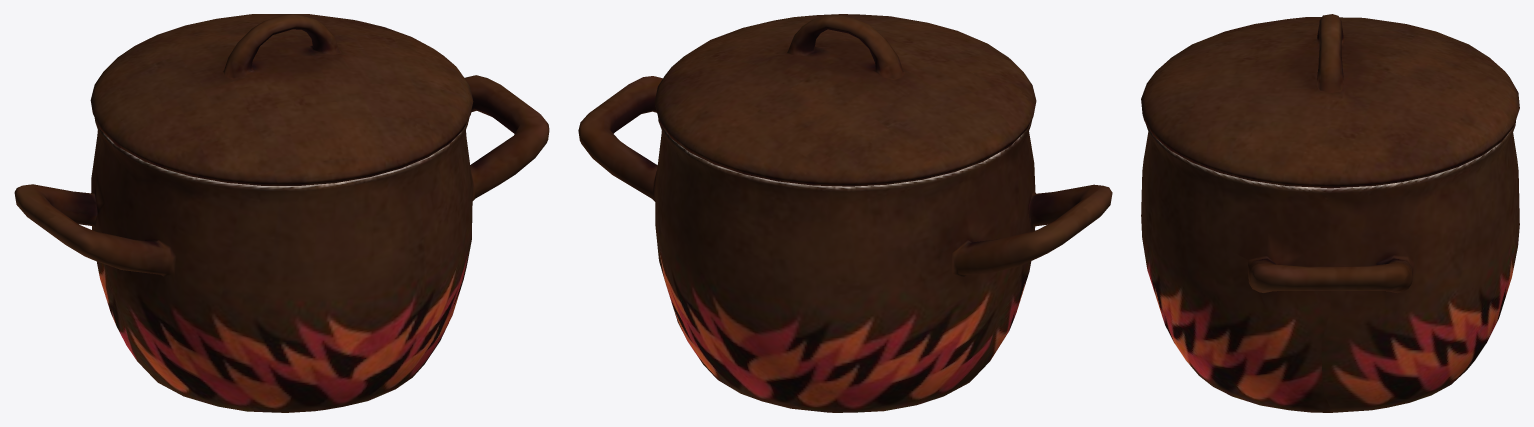
The model's file is pot_enamel_01.glb.
3 renders of one model, left to right at view 1: azimuth 30°, elevation 25°; view 2: azimuth 150°, elevation 25°; view 3: azimuth 270°, elevation 25°, orthographic.
Parts seen in each view (by area): view 1: pot_enamel_01_base, pot_enamel_01_lid; view 2: pot_enamel_01_base, pot_enamel_01_lid; view 3: pot_enamel_01_base, pot_enamel_01_lid.
Boxes of the visible parts, left/top/right/bottom form: pot_enamel_01_base: left=14, top=75, right=549, bottom=412; pot_enamel_01_lid: left=90, top=14, right=473, bottom=185; pot_enamel_01_base: left=578, top=76, right=1112, bottom=412; pot_enamel_01_lid: left=654, top=14, right=1036, bottom=186; pot_enamel_01_base: left=1141, top=121, right=1519, bottom=412; pot_enamel_01_lid: left=1141, top=14, right=1519, bottom=188.
Bounding box in the file's own units: 0.2626 × 0.1782 × 0.1804.
Materials: 1 (1 with a texture image).
